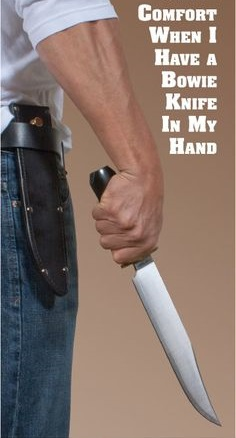knife: (88, 204, 224, 430)
